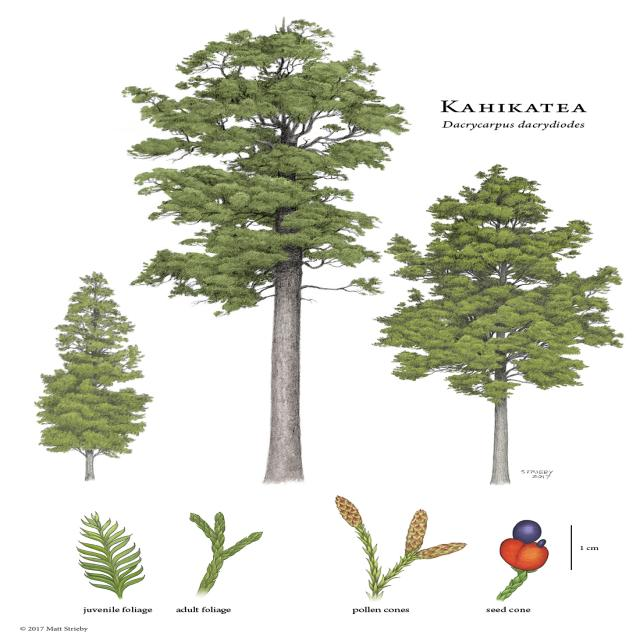Kahikatea: (150, 18, 381, 484), (397, 163, 626, 487), (28, 270, 153, 486)
